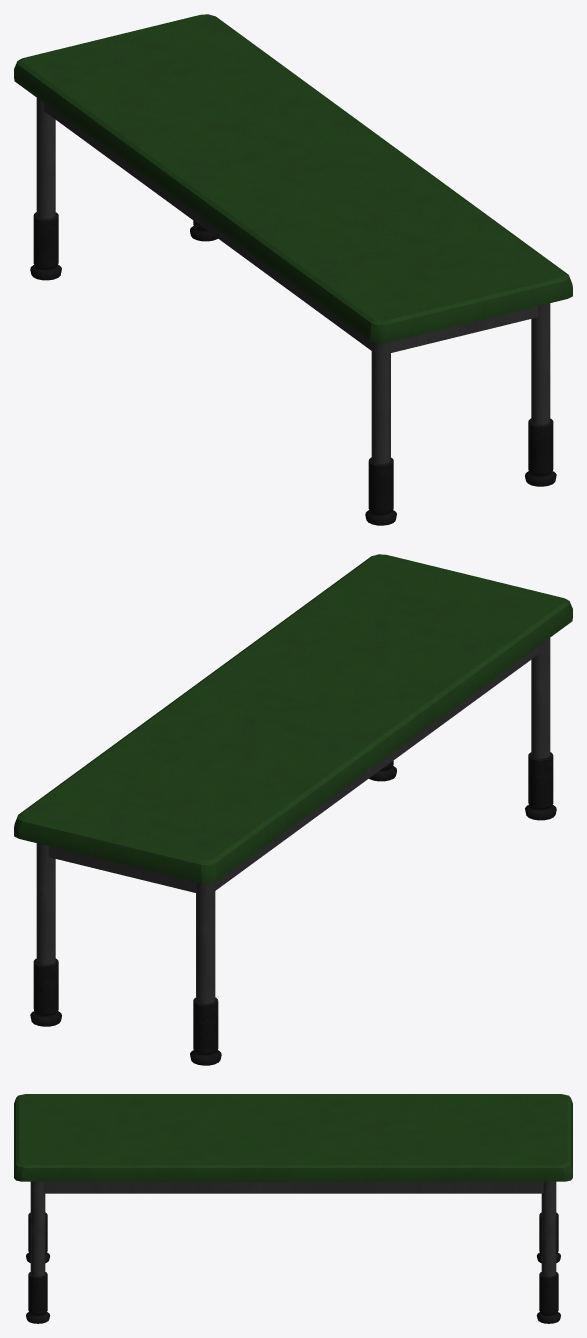
Rendered from canteen table.fbx.
3 views of the same model, one above another, from view 1: azimuth 30°, elevation 25°; view 2: azimuth 150°, elevation 25°; view 3: azimuth 270°, elevation 25° (orthographic). The views are drawn at different scales.
Visible parts, largest first — view 1: canteen_table12, pCylinder66, pCylinder65, pCylinder68, pCube624, pCube623; view 2: canteen_table12, pCylinder68, pCylinder67, pCylinder66, pCube624, pCube626; view 3: canteen_table12, pCube625, pCylinder67, pCylinder65, pCylinder68, pCylinder66.
Boxes of the visible parts, x1,y1,x2,y2 form: canteen_table12: (14,14,572,343); pCylinder66: (365,342,396,525); pCylinder65: (525,303,556,486); pCylinder68: (30,98,61,280); pCube624: (43,103,371,350); pCube623: (390,306,538,352); canteen_table12: (14,554,572,883); pCylinder68: (190,882,221,1065); pCylinder67: (30,843,61,1026); pCylinder66: (525,638,556,820); pCube624: (215,643,543,890); pCube626: (48,846,196,892); canteen_table12: (14,1094,572,1181); pCube625: (43,1181,543,1193); pCylinder67: (536,1181,560,1323); pCylinder65: (26,1181,50,1323); pCylinder68: (537,1212,560,1263); pCylinder66: (26,1212,49,1263).
Bounding box in the file's own units: 118 × 117 × 372.
